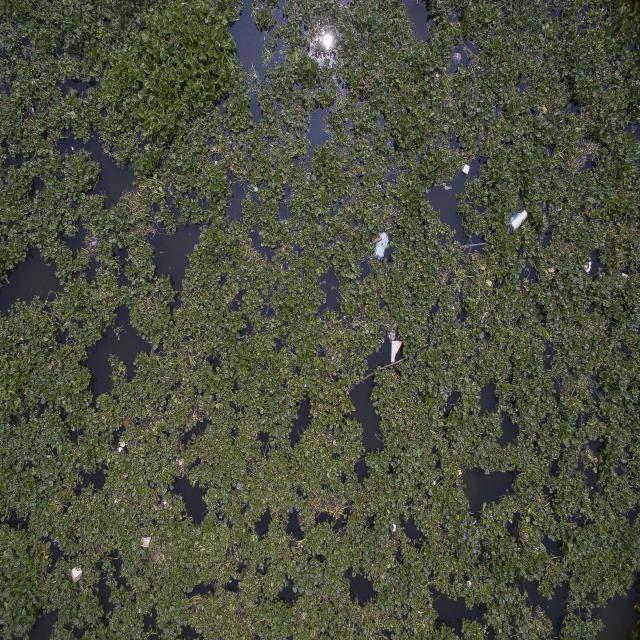plastic: (369, 225, 396, 266), (504, 196, 531, 237), (389, 333, 408, 370), (66, 562, 90, 590), (581, 252, 600, 280), (458, 152, 474, 180), (113, 435, 132, 457), (140, 532, 156, 555)
